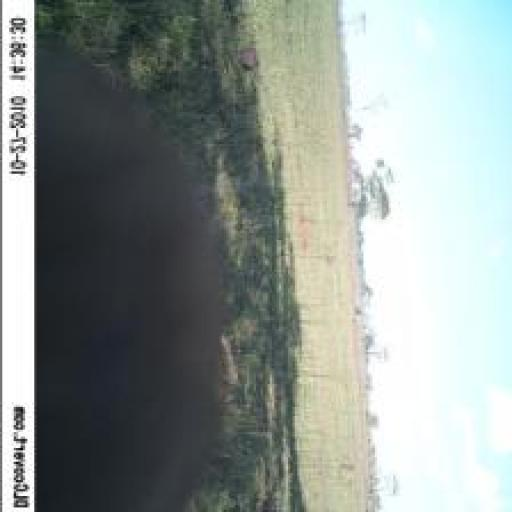lion: (39, 181, 198, 466)
